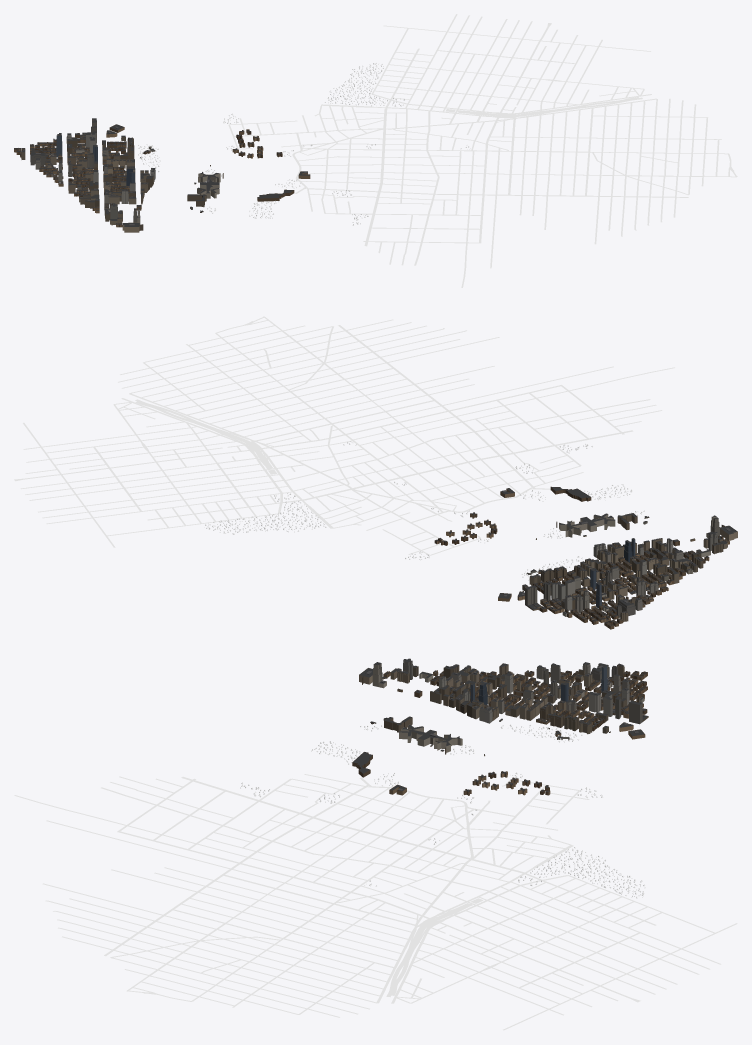
Rendered from manhattan_+01_-01.glb.
The picture shows the model from 3 angles, top to bottom: view 1: azimuth 30°, elevation 25°; view 2: azimuth 150°, elevation 25°; view 3: azimuth 270°, elevation 25°; orthographic projection. The views are drawn at different scales.
Visible parts, largest first — view 1: ROAD_+01_-01, BLD_midrise_+01_-01, BLD_lowrise_+01_-01, TREE_+01_-01, BLD_towers_+01_-01; view 2: ROAD_+01_-01, BLD_midrise_+01_-01, BLD_lowrise_+01_-01, BLD_towers_+01_-01, TREE_+01_-01; view 3: ROAD_+01_-01, BLD_midrise_+01_-01, BLD_lowrise_+01_-01, BLD_towers_+01_-01, TREE_+01_-01.
Boxes of the visible parts, x1,y1,x2,y2 form: ROAD_+01_-01: [228, 14, 737, 287]; BLD_midrise_+01_-01: [21, 133, 223, 232]; BLD_lowrise_+01_-01: [14, 124, 310, 227]; TREE_+01_-01: [138, 63, 470, 225]; BLD_towers_+01_-01: [56, 118, 140, 224]; ROAD_+01_-01: [14, 316, 674, 555]; BLD_midrise_+01_-01: [522, 513, 737, 621]; BLD_lowrise_+01_-01: [434, 486, 729, 629]; BLD_towers_+01_-01: [525, 515, 719, 613]; TREE_+01_-01: [204, 441, 644, 580]; ROAD_+01_-01: [14, 774, 737, 1030]; BLD_midrise_+01_-01: [359, 662, 641, 754]; BLD_lowrise_+01_-01: [352, 669, 648, 795]; BLD_towers_+01_-01: [372, 658, 642, 724]; TREE_+01_-01: [240, 724, 645, 898].
Bounding box in the file's own units: 4163 × 142 × 3555.
